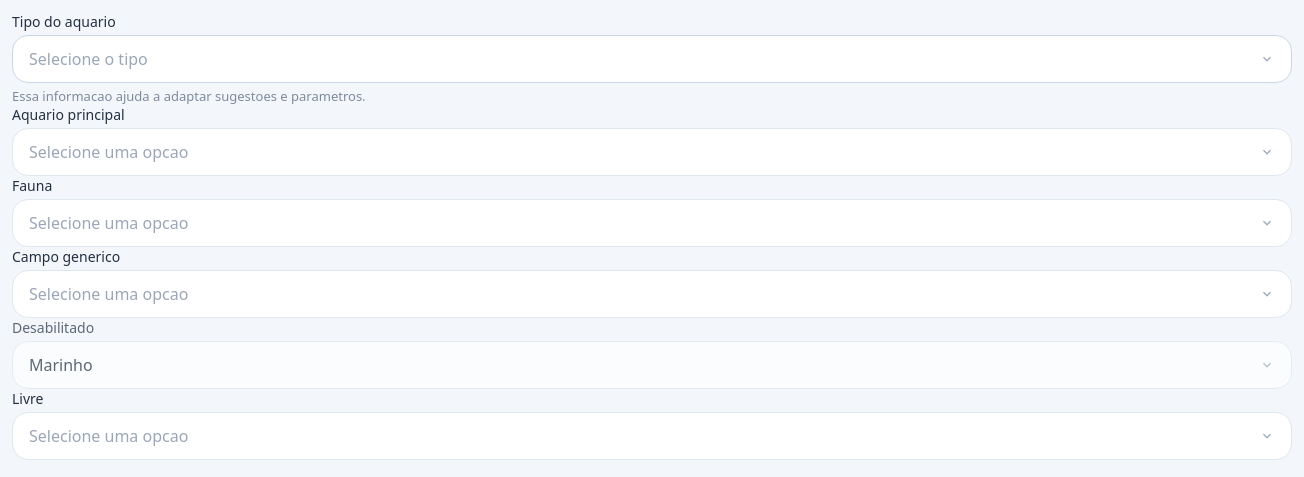
it: SelectFormfieldComponent › should render all options when open
Click the dropdown with class "select-formfield__trigger" showing "Selecione o tipo": (88, 59) [12,35,1292,83]
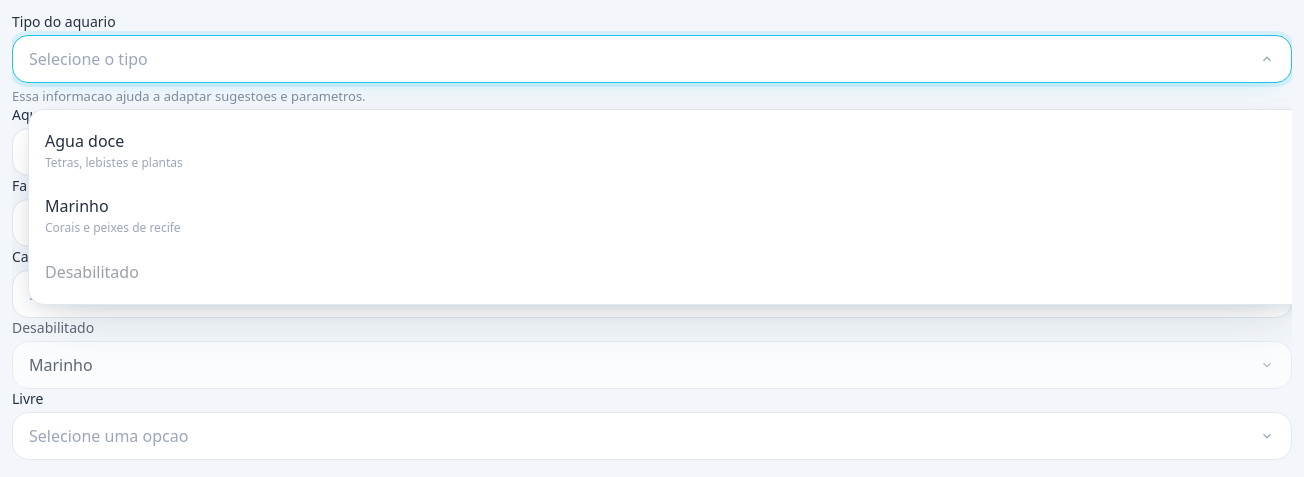
expect the number of options with class "select-formfield__option" is 3: met, box [45,130,183,171]; [45,195,181,236]; [45,261,139,283]
